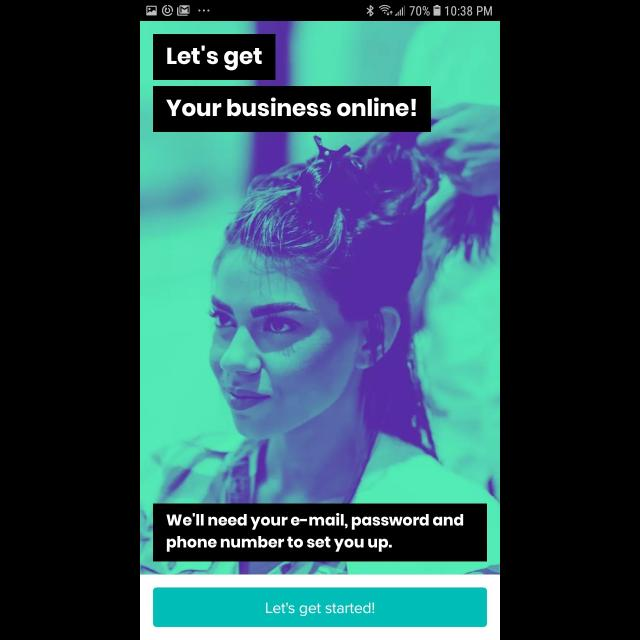image: (140, 22, 500, 574)
text: (166, 512, 464, 552), (166, 98, 416, 118), (168, 45, 262, 71)
textbutton: (153, 588, 487, 628)
uppertaskbar: (140, 1, 500, 22)
